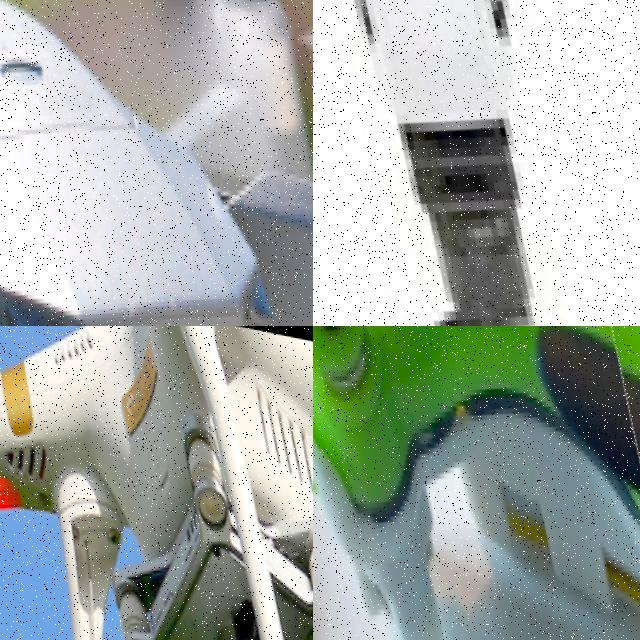drone: (313, 0, 640, 326), (313, 326, 640, 640), (0, 0, 313, 326), (0, 326, 313, 640)
